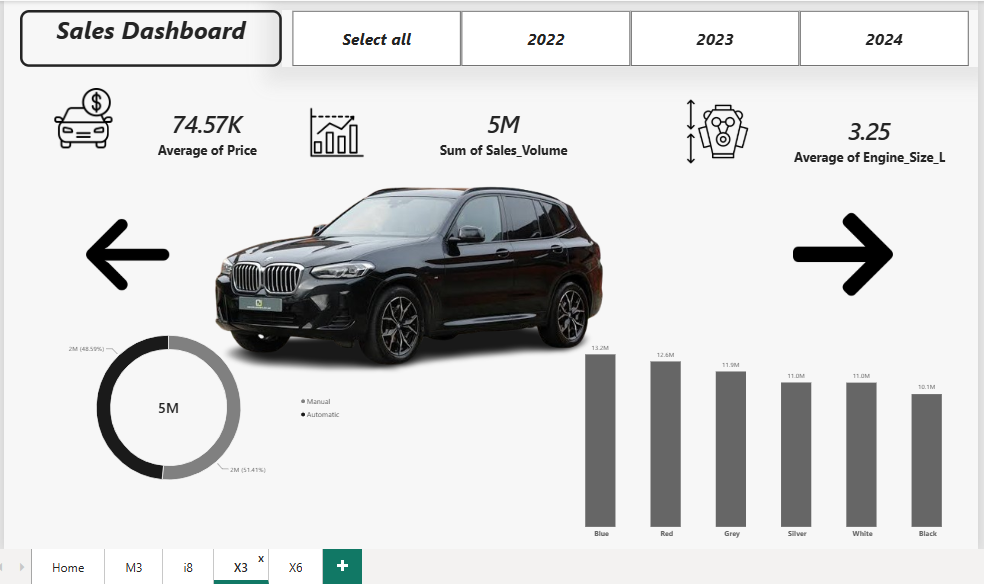

Layout of this report page (visuals, bound fields, positions):
{"tool":"powerbi","page":{"name":"X3","canvas":[1920,1080],"ordinal":3},"visuals":[{"type":"image","box":[341.3,125.3,920.2,745.2],"z":0},{"type":"slicer","fields":{"Values":["BMW_Car_Sales_Classification.Year"]},"box":[548.4,17.3,1371.6,112.3],"z":1},{"type":"textbox","box":[32.4,17.3,516.2,112.3],"z":2},{"type":"image","box":[69.1,170.6,175,118.8],"z":3},{"type":"cardVisual","fields":{"Data":["Avg(BMW_Car_Sales_Classification.Price_USD)"]},"box":[222.5,149,356.4,220.3],"z":4},{"type":"image","box":[1291.7,187.9,231.1,140.4],"z":5},{"type":"cardVisual","fields":{"Data":["Avg(BMW_Car_Sales_Classification.Engine_Size_L)"]},"box":[1522.8,170.6,365,203],"z":6},{"type":"image","box":[578.9,205.2,153.4,108],"z":7},{"type":"cardVisual","fields":{"Data":["Sum(BMW_Car_Sales_Classification.Sales_Volume)"]},"box":[801.4,157.7,365,203],"z":8},{"type":"columnChart","fields":{"Category":["BMW_Car_Sales_Classification.Color"],"Y":["Sum(BMW_Car_Sales_Classification.Price)"]},"box":[1077.6,648,842.4,432],"z":9},{"type":"donutChart","fields":{"Category":["BMW_Car_Sales_Classification.Transmission"],"Y":["Sum(BMW_Car_Sales_Classification.Sales_Volume)"]},"box":[49.7,587.5,637.2,429.8],"z":10},{"type":"image","box":[1555.2,380.2,196.6,237.6],"z":11},{"type":"image","box":[84.2,416.9,317.5,164.2],"z":12}]}

Visuals, with their boxes on the page's 1920x1080 design canvas (x1, y1, x2, y2). These are canvas units, not pixel positions in the 984x584 screenshot, which may show the page scaled, cropped or inside an application window:
image: pyautogui.locateOnScreen(341, 125, 1262, 870)
slicer - BMW_Car_Sales_Classification.Year: pyautogui.locateOnScreen(548, 17, 1920, 130)
textbox: pyautogui.locateOnScreen(32, 17, 549, 130)
image: pyautogui.locateOnScreen(69, 171, 244, 289)
cardVisual - Avg(BMW_Car_Sales_Classification.Price_USD): pyautogui.locateOnScreen(222, 149, 579, 369)
image: pyautogui.locateOnScreen(1292, 188, 1523, 328)
cardVisual - Avg(BMW_Car_Sales_Classification.Engine_Size_L): pyautogui.locateOnScreen(1523, 171, 1888, 374)
image: pyautogui.locateOnScreen(579, 205, 732, 313)
cardVisual - Sum(BMW_Car_Sales_Classification.Sales_Volume): pyautogui.locateOnScreen(801, 158, 1166, 361)
columnChart - BMW_Car_Sales_Classification.Color x Sum(BMW_Car_Sales_Classification.Price): pyautogui.locateOnScreen(1078, 648, 1920, 1080)
donutChart - BMW_Car_Sales_Classification.Transmission x Sum(BMW_Car_Sales_Classification.Sales_Volume): pyautogui.locateOnScreen(50, 588, 687, 1017)
image: pyautogui.locateOnScreen(1555, 380, 1752, 618)
image: pyautogui.locateOnScreen(84, 417, 402, 581)
